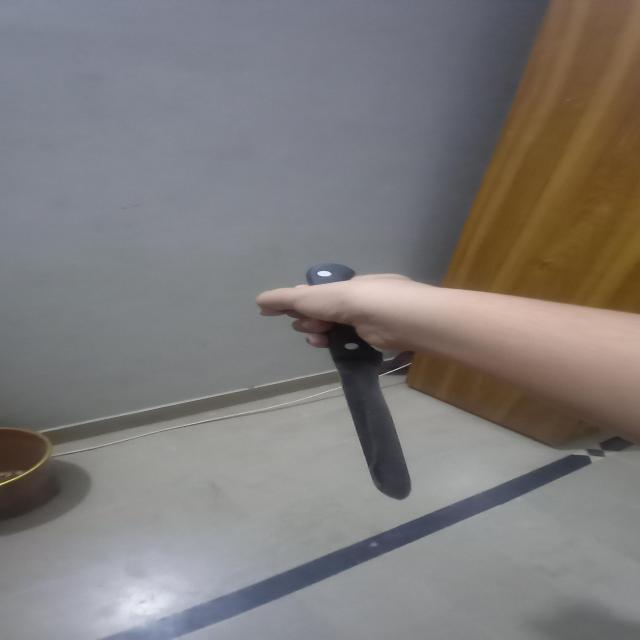weapon: (308, 263, 412, 499)
